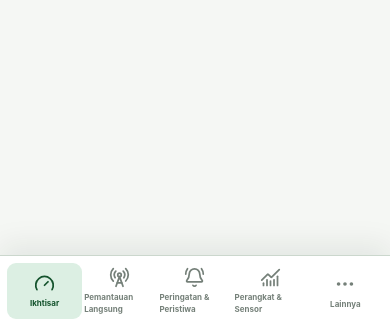
MobileNavigation › marks the active route and exposes secondary routes through More
Click the button "Lainnya".
click(345, 291)  # box [308, 263, 383, 319]
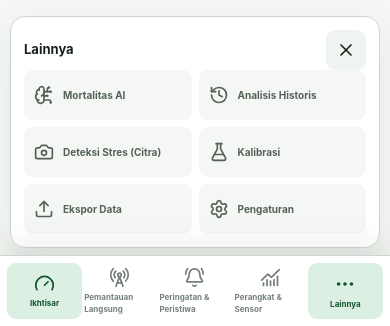
Expected: the link "Analisis Historis" is shown, [198, 70, 366, 120]
Expected: the link "Kalibrasi" is shown, [198, 127, 366, 177]
Expected: the link "Ekspor Data" is shown, [24, 184, 192, 234]
